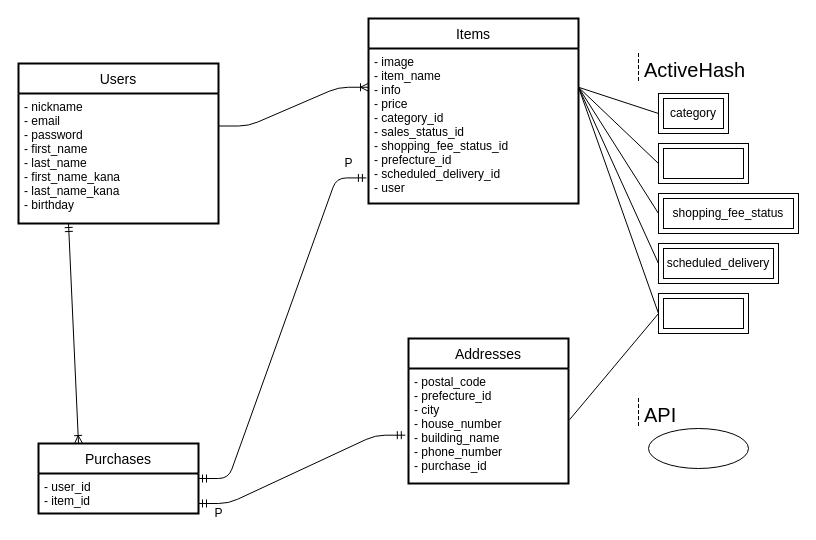
The diagram is 816 pixels wide and 540 high, and some of its shapes have lost their labels. Here are the shapes that lost their labels. From the top down, the centre of each, then its label:
(x=703, y=163): sales_status
(x=703, y=313): prefecture
(x=698, y=448): Pay.jp
